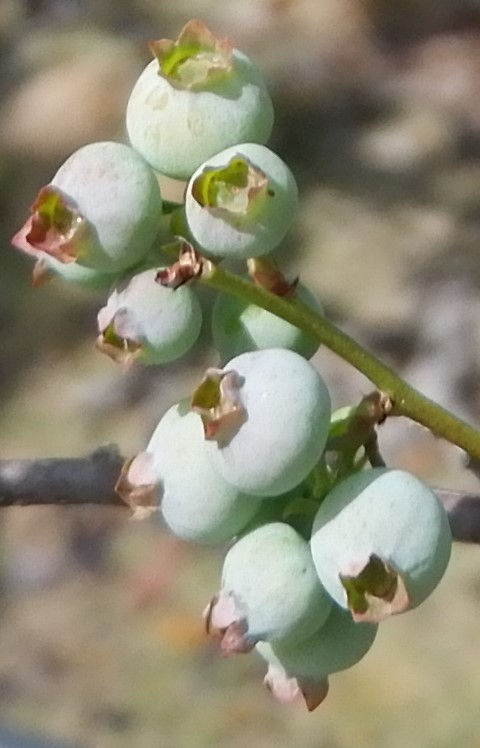Immature: (125, 20, 276, 183), (310, 466, 454, 622), (113, 397, 264, 545), (190, 349, 332, 496), (205, 520, 335, 659), (28, 140, 160, 273), (254, 604, 381, 714), (183, 143, 299, 259), (96, 260, 203, 376), (211, 272, 327, 365), (10, 219, 136, 292)
